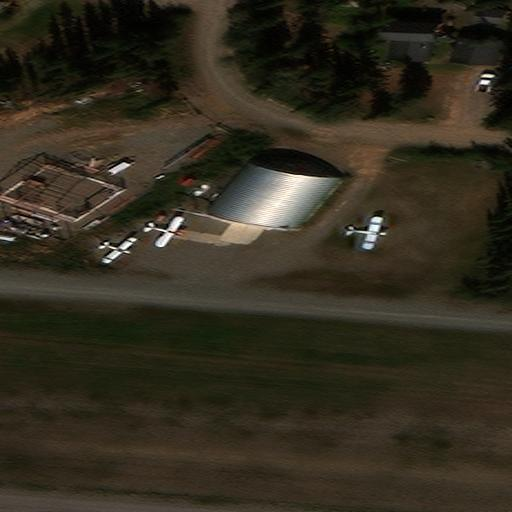Small Civil Transport: (345, 218, 386, 249), (144, 216, 183, 247), (100, 237, 138, 263)
